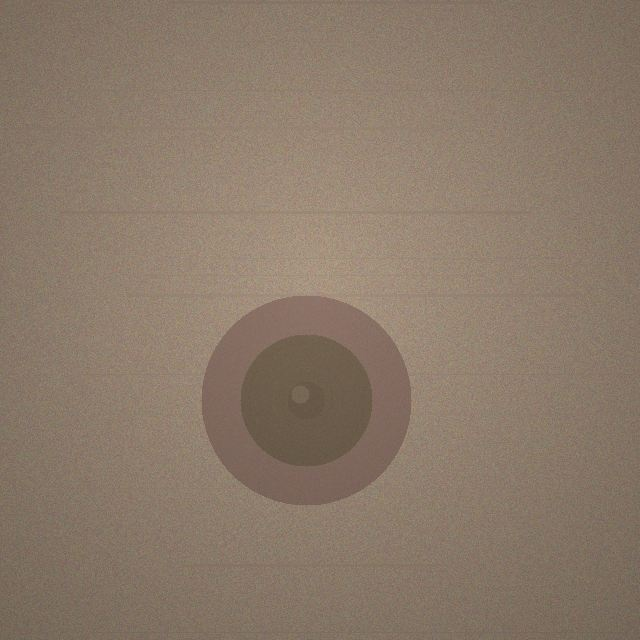good: (201, 295, 411, 505)
